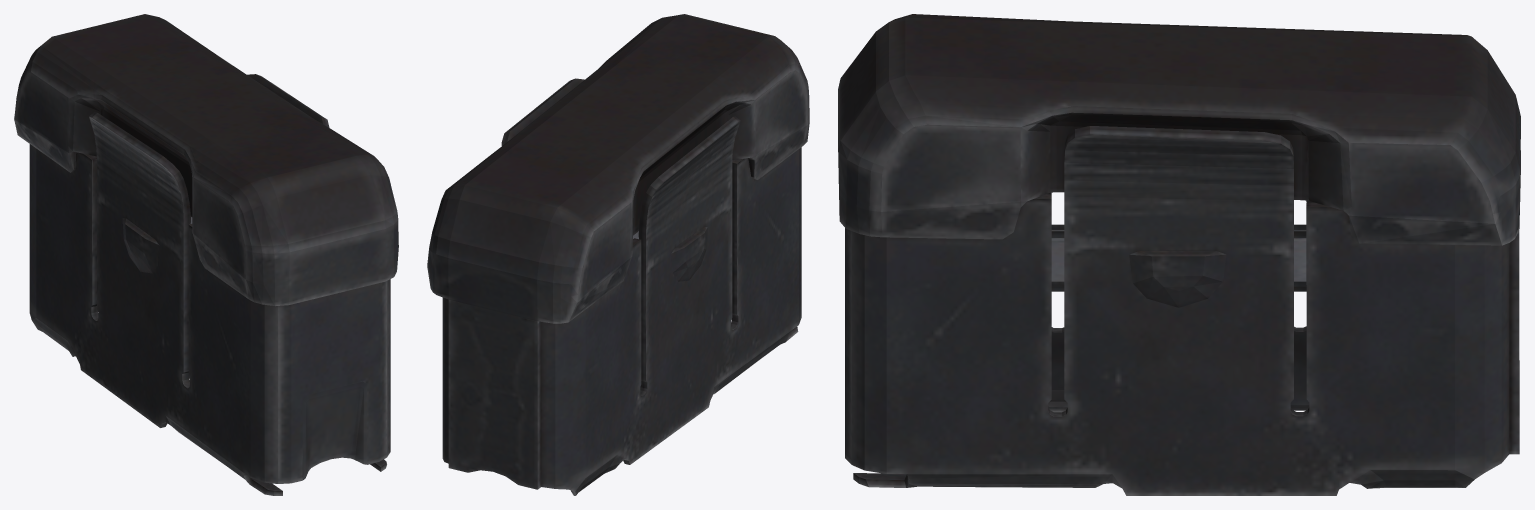
3 renders of one model, left to right at view 1: azimuth 30°, elevation 25°; view 2: azimuth 150°, elevation 25°; view 3: azimuth 270°, elevation 25°, orthographic. The views are drawn at different scales.
Visible parts, largest first — view 1: TW_5a38ee51c4a282000c5a955c_PZ_Import; view 2: TW_5a38ee51c4a282000c5a955c_PZ_Import; view 3: TW_5a38ee51c4a282000c5a955c_PZ_Import.
Boxes of the visible parts, box(x1,y1,x2,y2) form: TW_5a38ee51c4a282000c5a955c_PZ_Import: box(14, 14, 398, 495); TW_5a38ee51c4a282000c5a955c_PZ_Import: box(427, 14, 809, 495); TW_5a38ee51c4a282000c5a955c_PZ_Import: box(838, 14, 1520, 495).
Size of the model in its own units: 0.0171 by 0.045 by 0.0295.
1 material, 1 textured.
